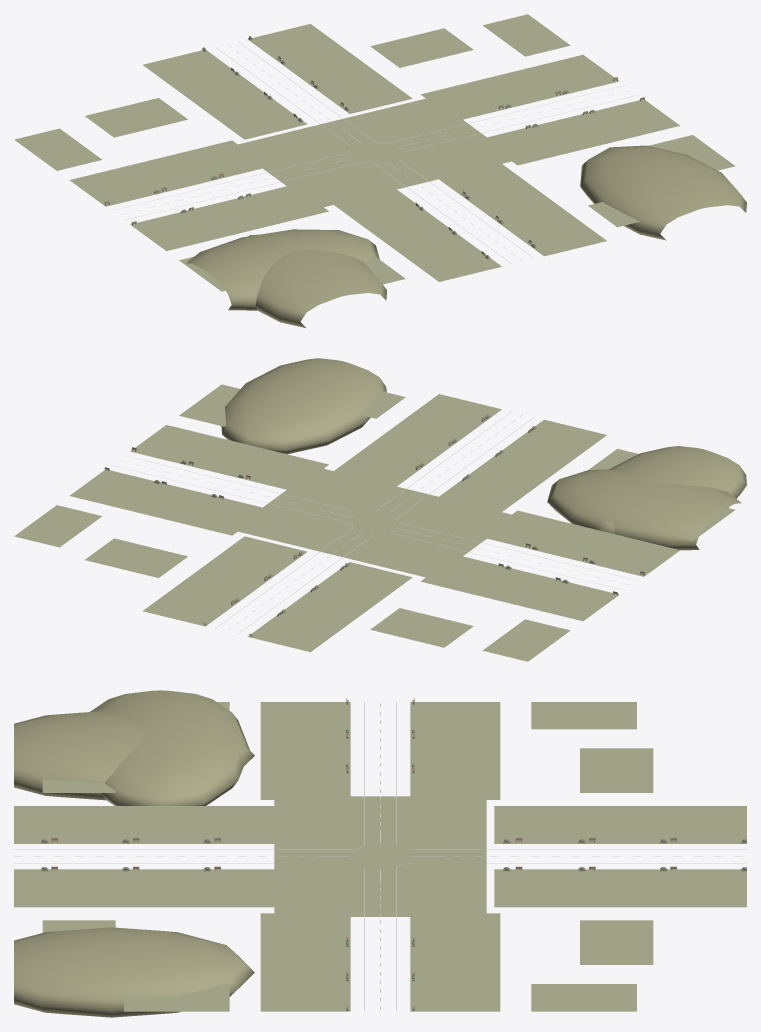
The picture shows the model from 3 angles, top to bottom: view 1: azimuth 30°, elevation 25°; view 2: azimuth 150°, elevation 25°; view 3: azimuth 270°, elevation 25°; orthographic projection. The views are drawn at different scales.
Parts seen in each view (by area): view 1: static; view 2: static; view 3: static.
Boxes of the visible parts, <box> form: static: <box>14,14,746,328</box>; static: <box>14,358,746,661</box>; static: <box>14,690,746,1017</box>.
Size of what is drawn, in the model's own units: 180 by 14.08 by 180.
